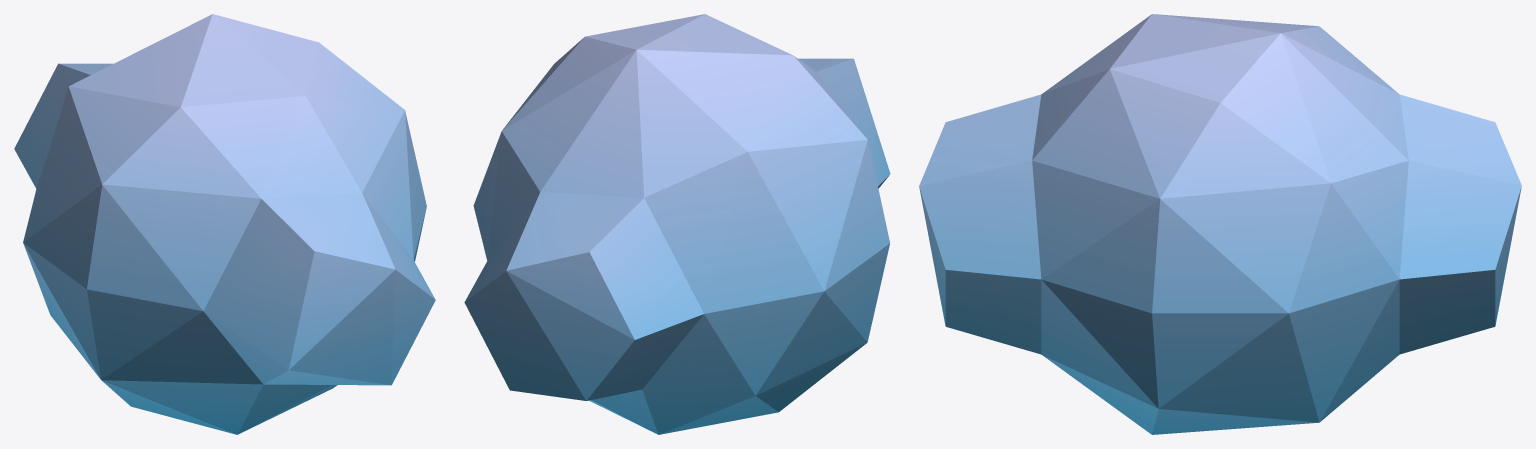
The model's file is VeladoAgua.fbx.
3 renders of one model, left to right at view 1: azimuth 30°, elevation 25°; view 2: azimuth 150°, elevation 25°; view 3: azimuth 270°, elevation 25°, orthographic. The views are drawn at different scales.
Parts seen in each view (by area): view 1: Icosphere.005; view 2: Icosphere.005; view 3: Icosphere.005.
Part boxes in pixels (x1=…): Icosphere.005: x1=14, y1=14, x2=435, y2=434; Icosphere.005: x1=464, y1=14, x2=890, y2=434; Icosphere.005: x1=919, y1=14, x2=1521, y2=434.
Size of the model in its own units: 190 by 199 by 272.
